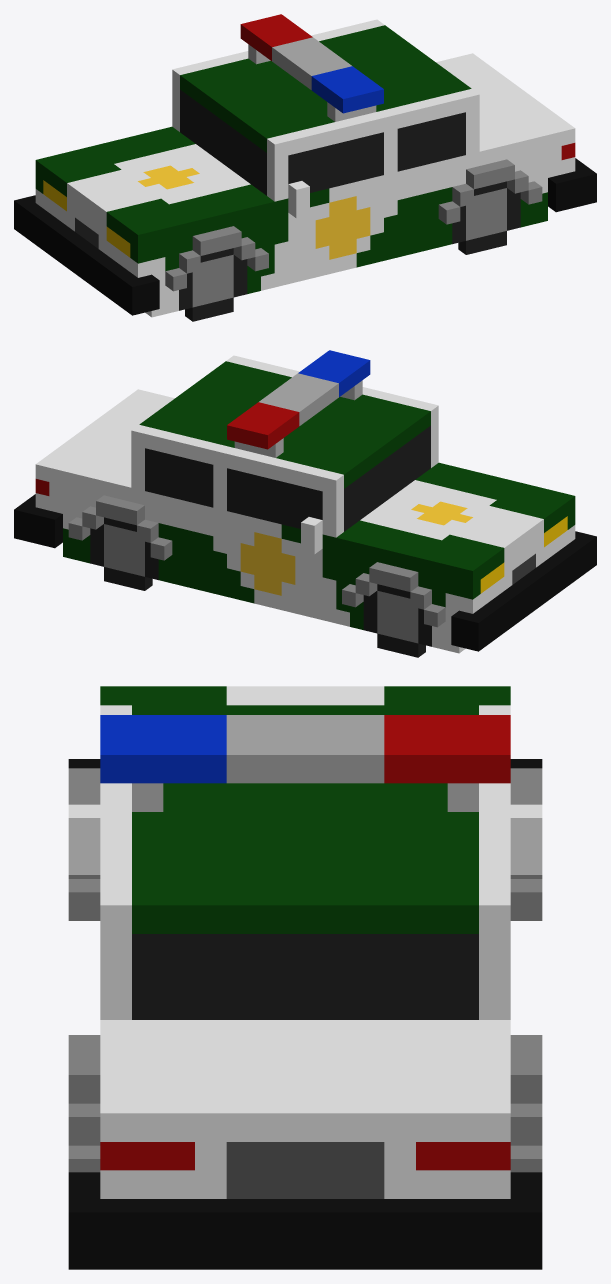
The model's file is patrulla4.fbx.
3 renders of one model, top to bottom at view 1: azimuth 30°, elevation 25°; view 2: azimuth 150°, elevation 25°; view 3: azimuth 270°, elevation 25°, orthographic. The views are drawn at different scales.
Visible parts, largest first — view 1: Cubo.2742; view 2: Cubo.2742; view 3: Cubo.2742.
Part boxes in pixels (<box>): Cubo.2742: <box>14,14,596,321</box>; Cubo.2742: <box>14,350,596,657</box>; Cubo.2742: <box>68,686,542,1269</box>.
Size of the model in its own units: 1500 by 1300 by 3400.
